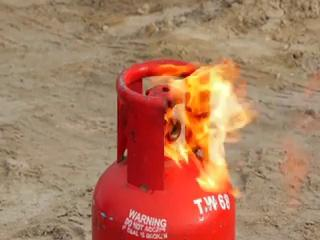Fire: (123, 51, 299, 172)
